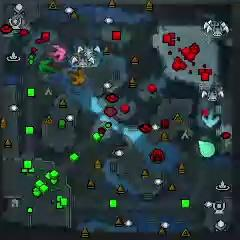p2: (197, 141, 216, 158)
x1: (49, 45, 66, 61)
x3: (202, 108, 220, 128)
x4: (37, 60, 55, 76)
x5: (68, 69, 86, 85)
